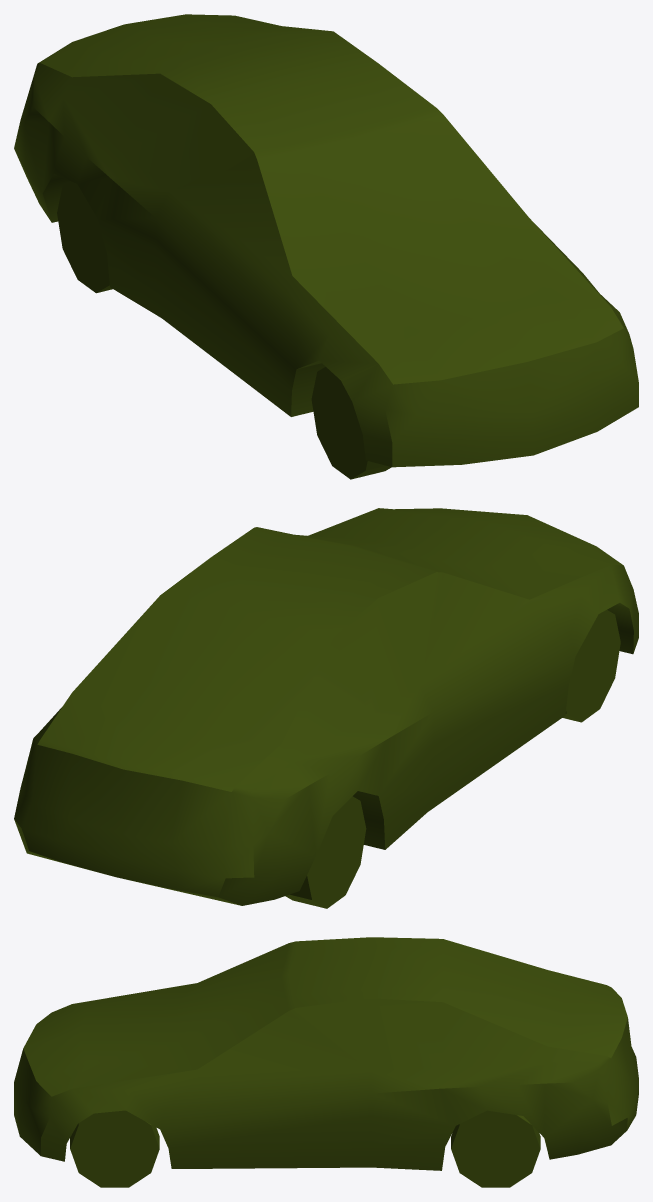
File: Vehicle01A_M.fbx
3 views of the same model, one above another, from view 1: azimuth 30°, elevation 25°; view 2: azimuth 150°, elevation 25°; view 3: azimuth 270°, elevation 25° (orthographic). The views are drawn at different scales.
Visible parts, largest first — view 1: Vehicle01A; view 2: Vehicle01A; view 3: Vehicle01A.
Boxes of the visible parts, bbox=[...] form: Vehicle01A: bbox=[14, 14, 638, 479]; Vehicle01A: bbox=[14, 508, 638, 908]; Vehicle01A: bbox=[14, 937, 638, 1187].
Size of the model in its own units: 1.77 by 1.41 by 4.55.
